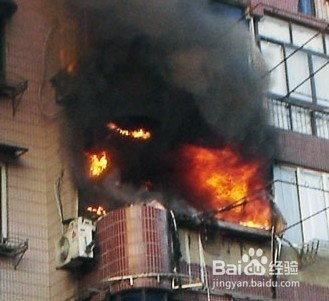fire: (183, 142, 279, 229)
